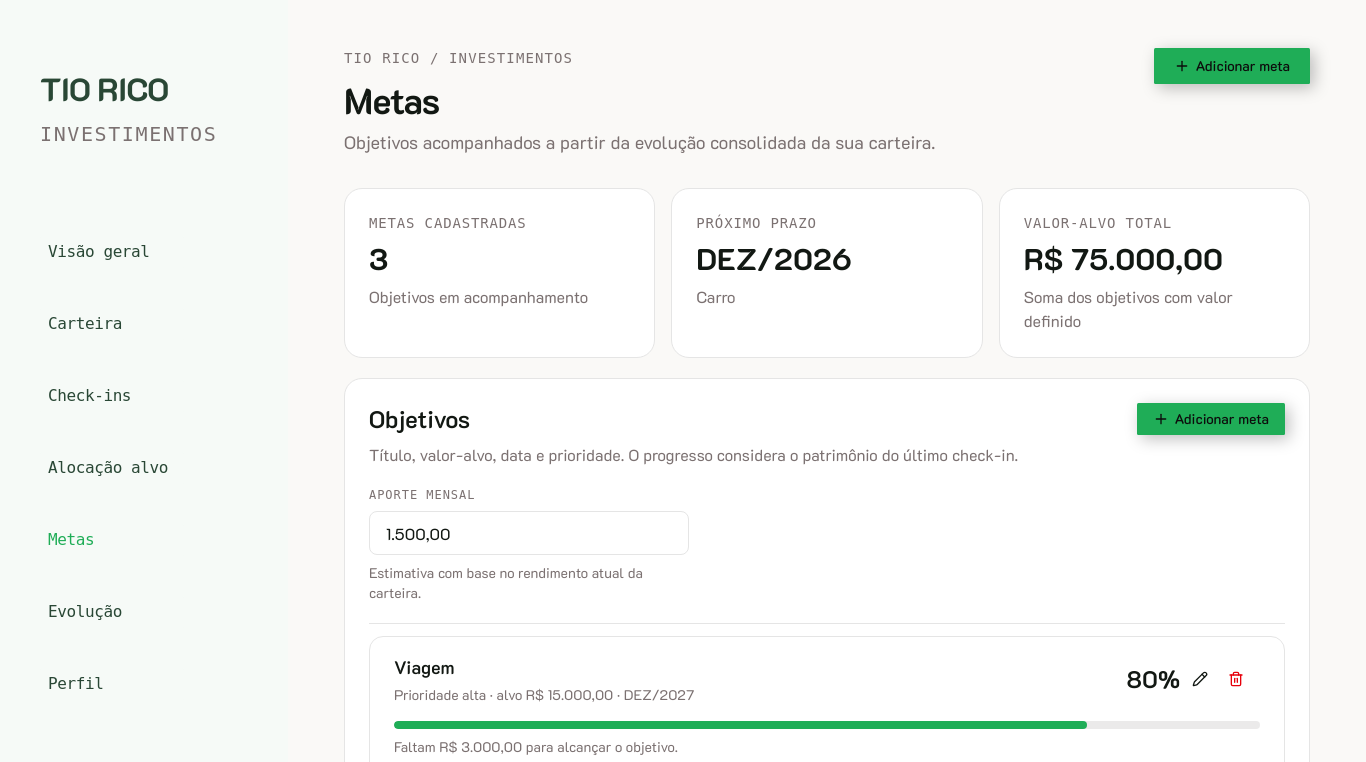
Test case: Goals: projeção de quando cada meta é alcançada (#94) › simular outro aporte atualiza as linhas na hora
This screenshot has width=1366, height=762.
Replace the text in the field labelled "Aporte mensal" with "3.000" at (529, 533), box x1=369 y1=511 x2=689 y2=555
(page scrolled)
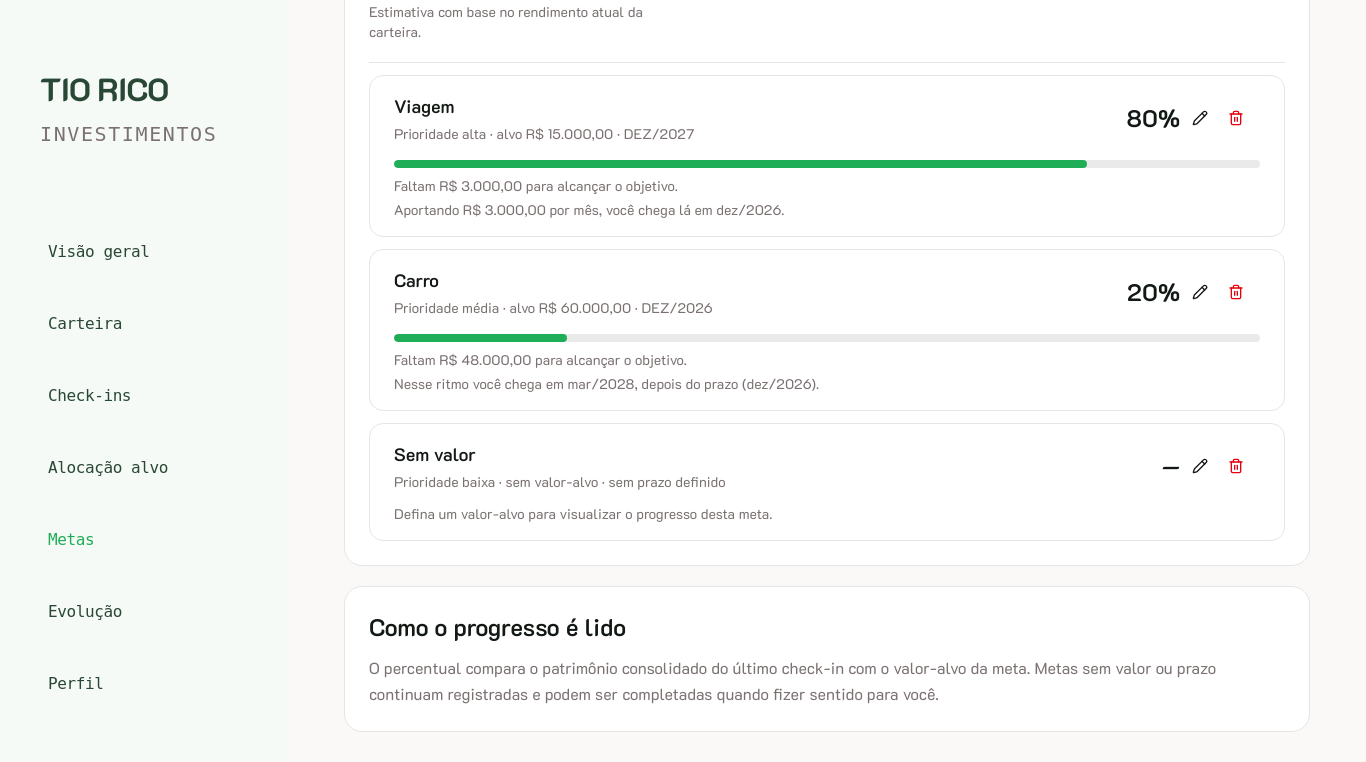
Result: the text "Aportando R$ 3.000,00 por mês, você chega lá em dez/2026." is shown at x1=394 y1=200 x2=784 y2=219
Result: the text "Nesse ritmo você chega em mar/2028, depois do prazo (dez/2026)." is shown at x1=394 y1=374 x2=819 y2=393
